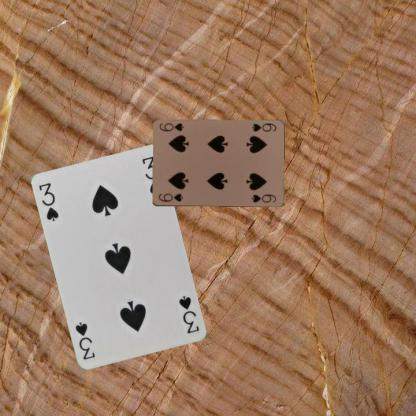3s: (176, 293, 201, 335), (36, 180, 60, 223)
6s: (156, 190, 184, 202), (249, 121, 277, 133)
